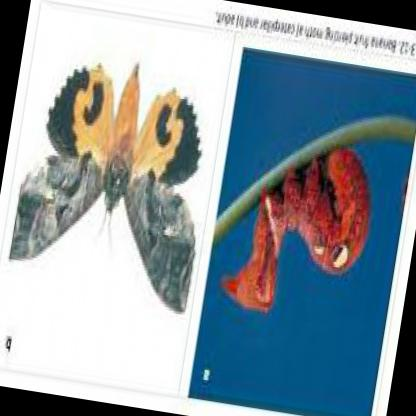fruit sucking moth: (11, 64, 200, 315)
